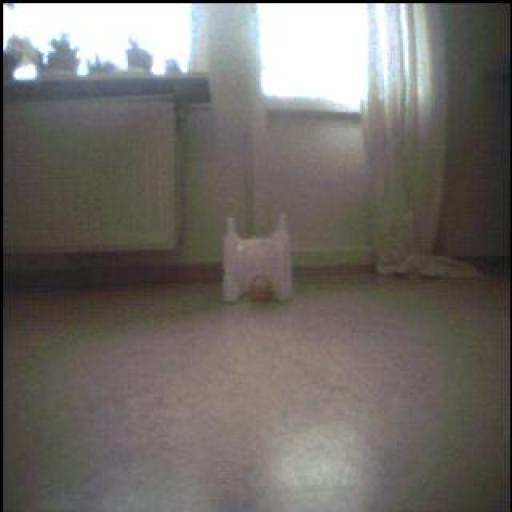Basket: (247, 273, 274, 305)
